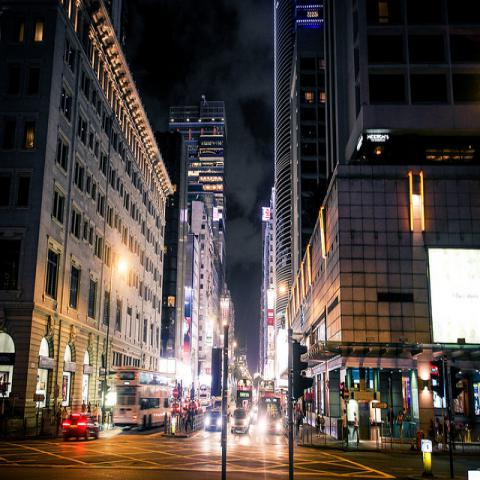bus: (112, 366, 172, 432), (236, 386, 253, 422)
car: (61, 412, 99, 441), (230, 407, 251, 434), (204, 409, 222, 431), (170, 402, 180, 415)
